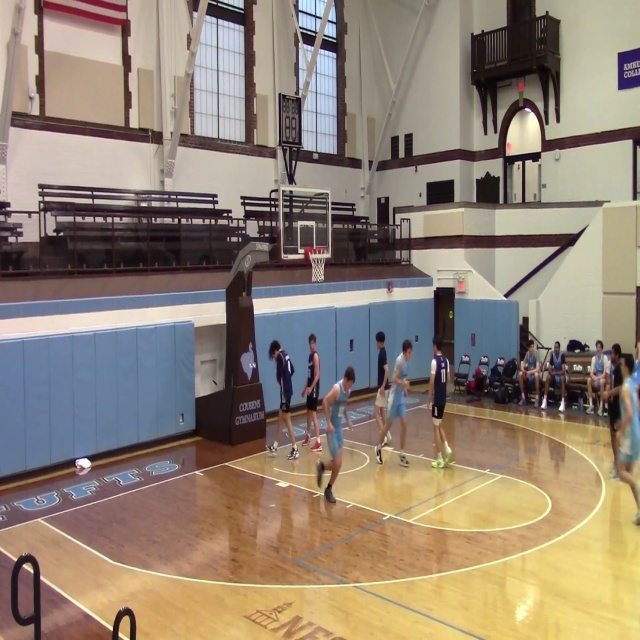Basketball: (75, 458, 91, 473), (430, 359, 437, 374)
